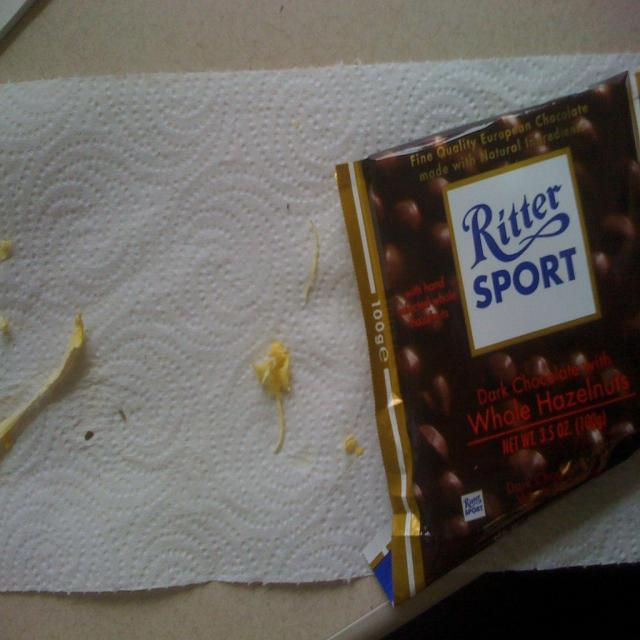rittersport: (444, 150, 600, 355)
